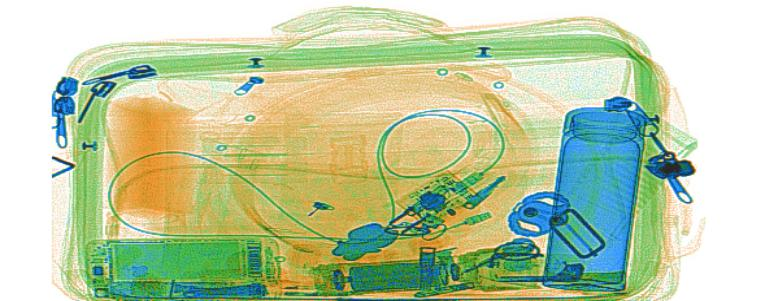battery: (350, 261, 450, 293)
